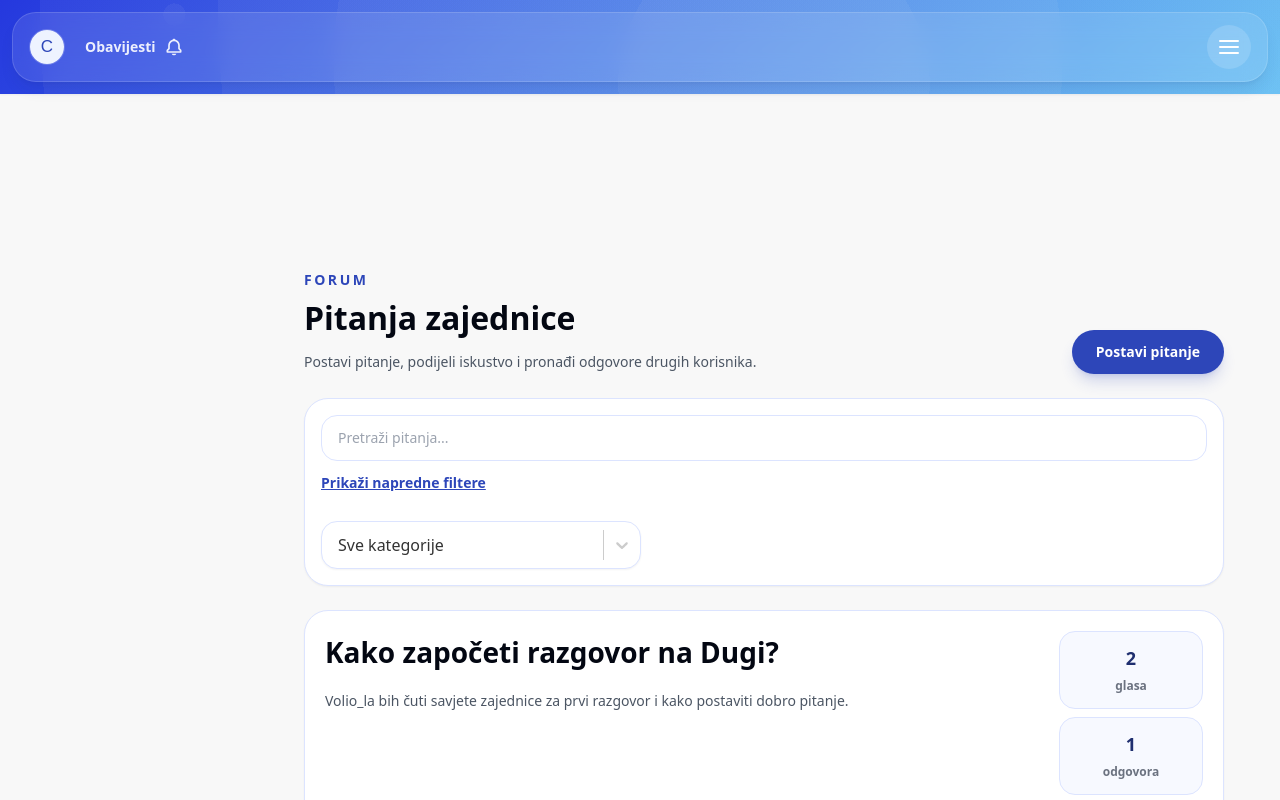
Test case: forum questions and answers › shows the forum question list and opens a question with answers
Expected: the element with test id "forum-questions-page" is shown, [304,270,1224,799]
Expected: the heading "Pitanja zajednice" is shown, [304,296,576,339]
In the field with test id "forum-search-input": [764, 438] box [321,415,1207,461], type "razgovor"
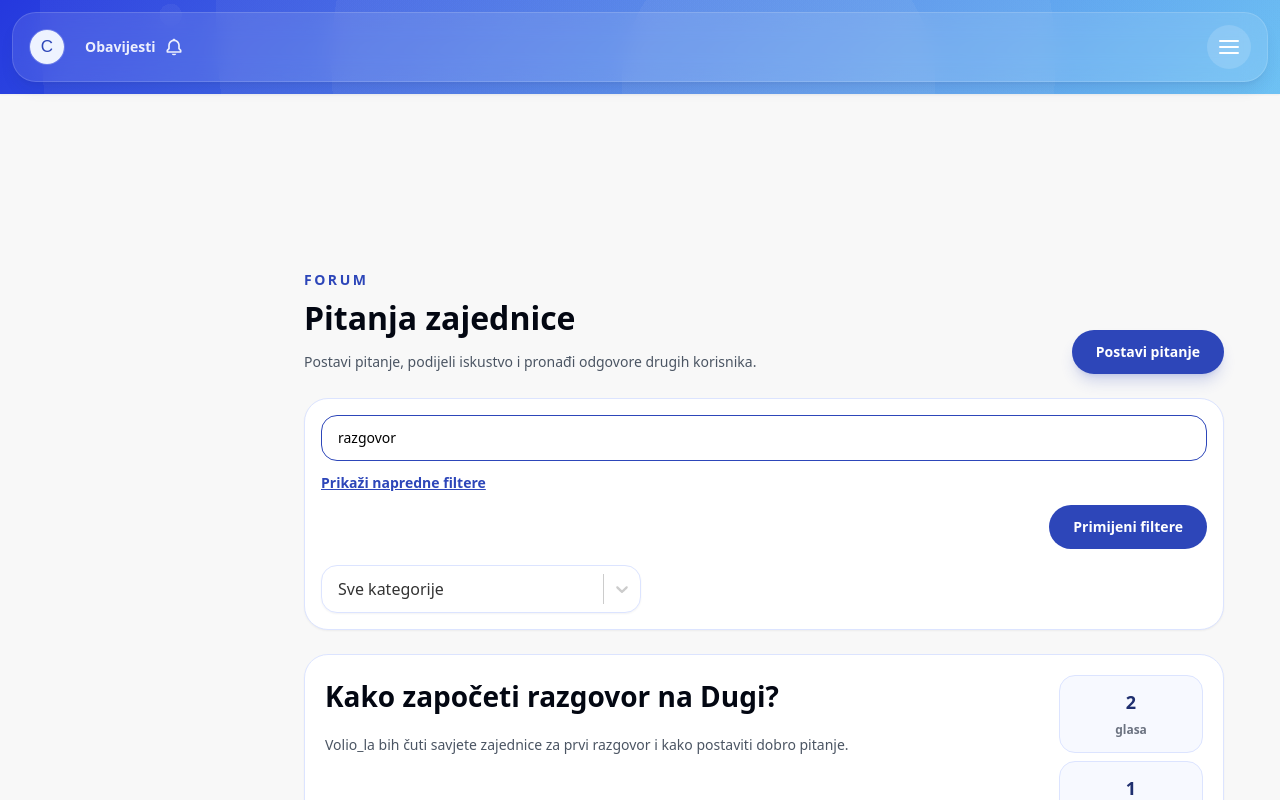
Click the button "Primijeni filtere": [1128, 527] box [1049,505,1207,549]
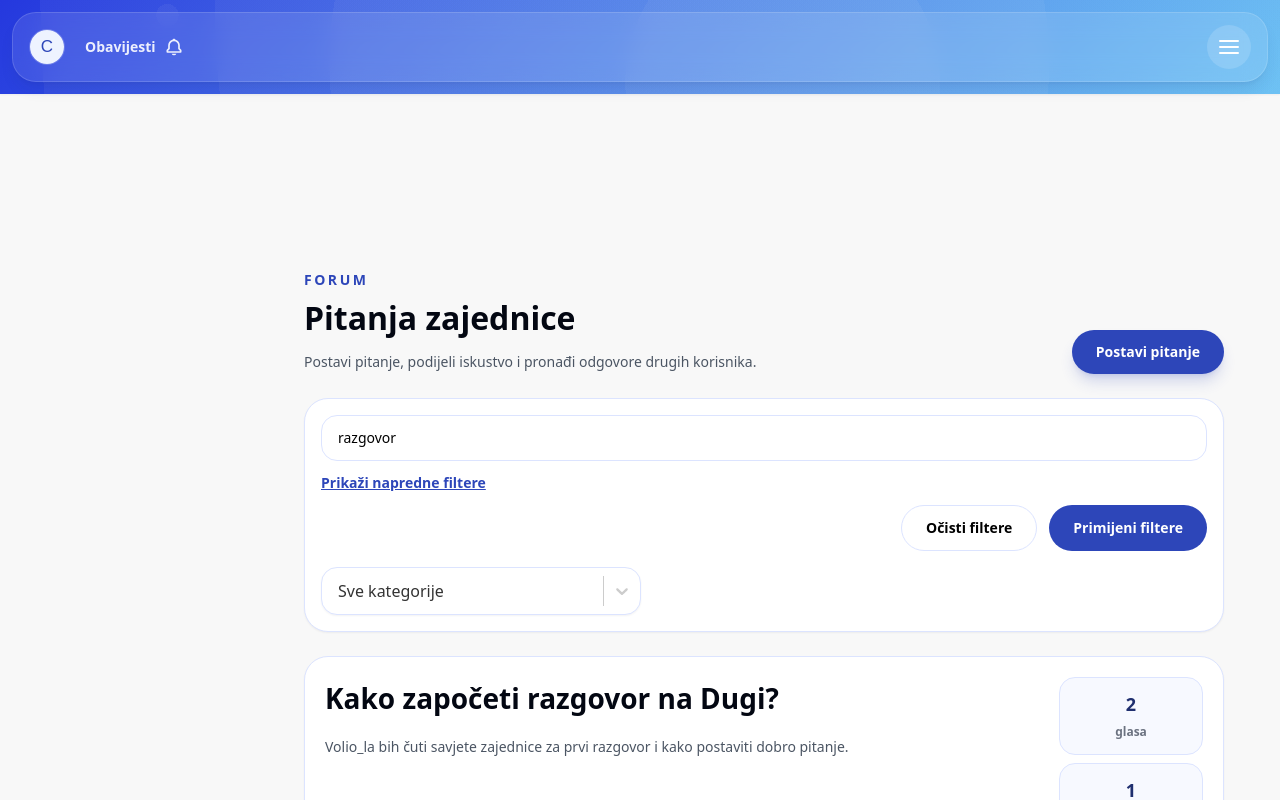
Scroll
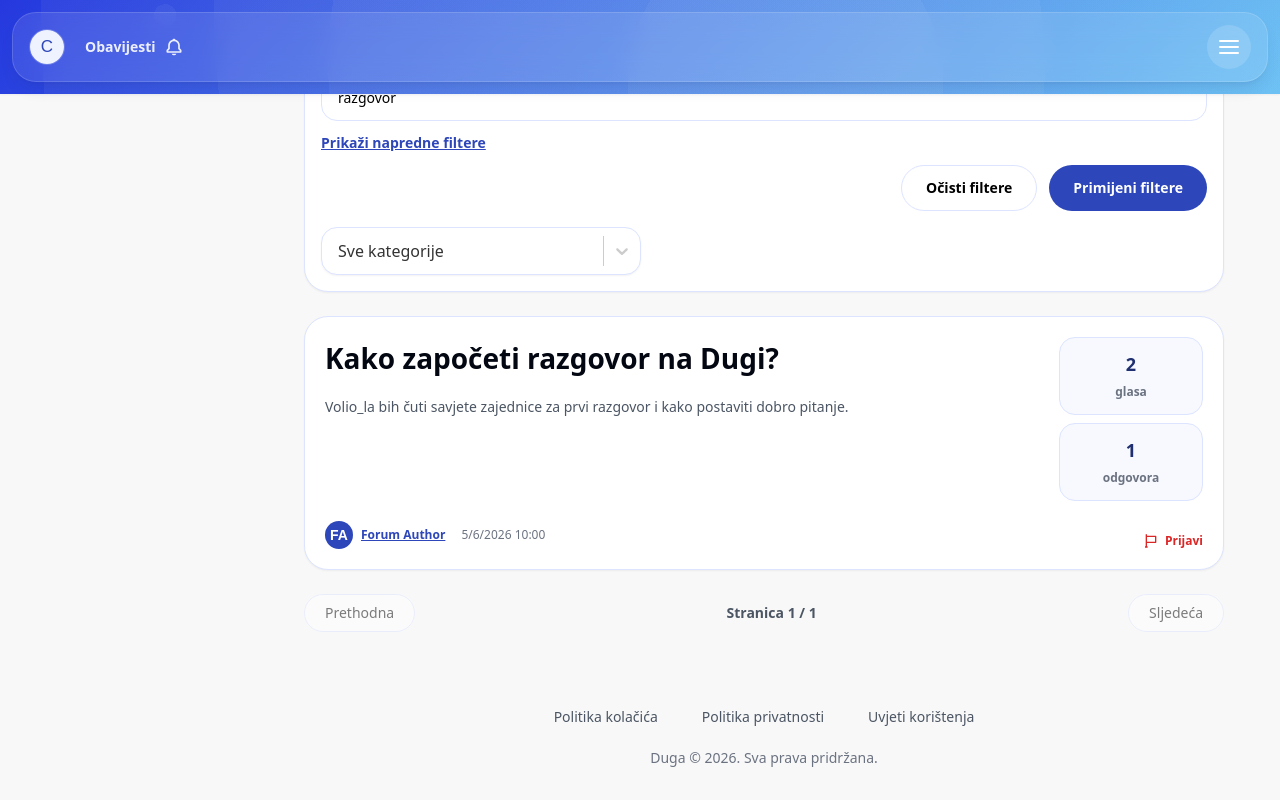
Click the link with test id "forum-question-card": [764, 443] box [304,316,1224,570]
(page scrolled)
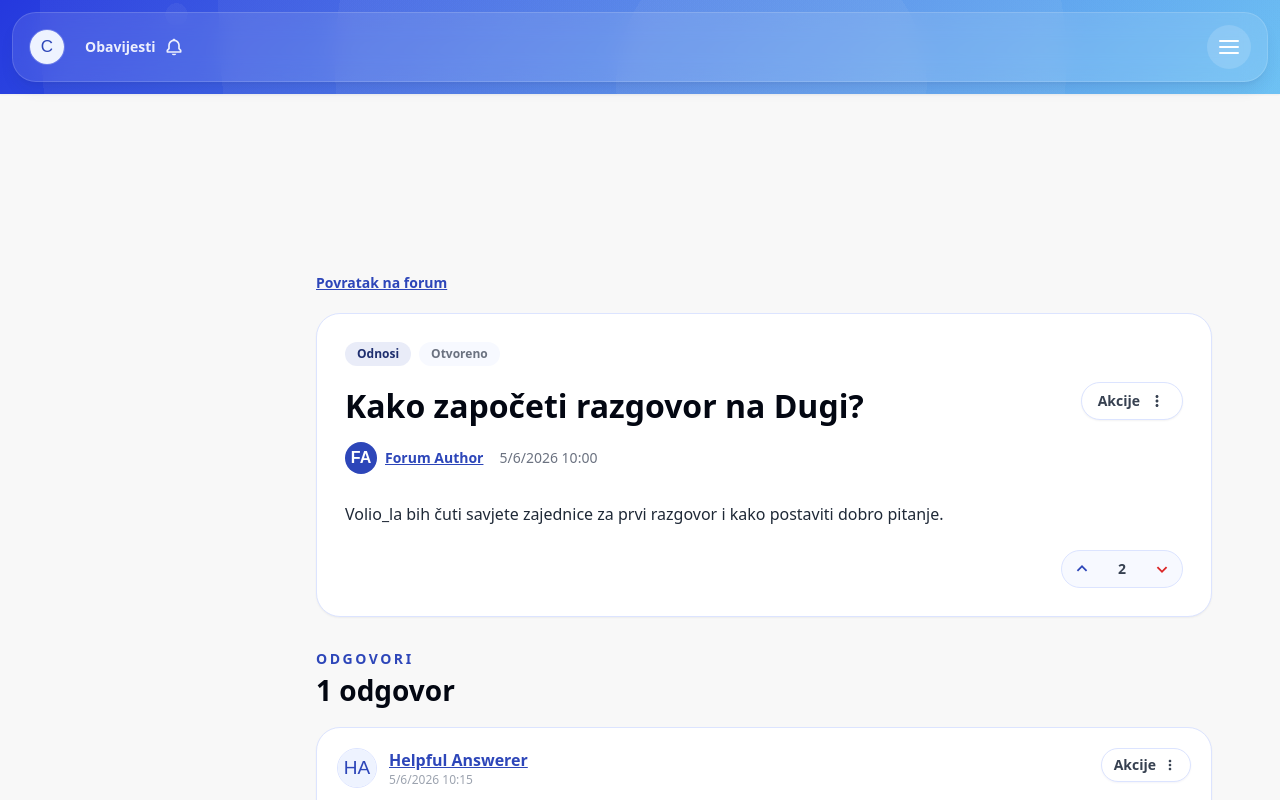
Expected: the heading "Kako započeti razgovor na Dugi?" is shown, [345,382,864,430]
Expected: the element with test id "forum-question-details-page" is shown, [316,270,1212,799]
